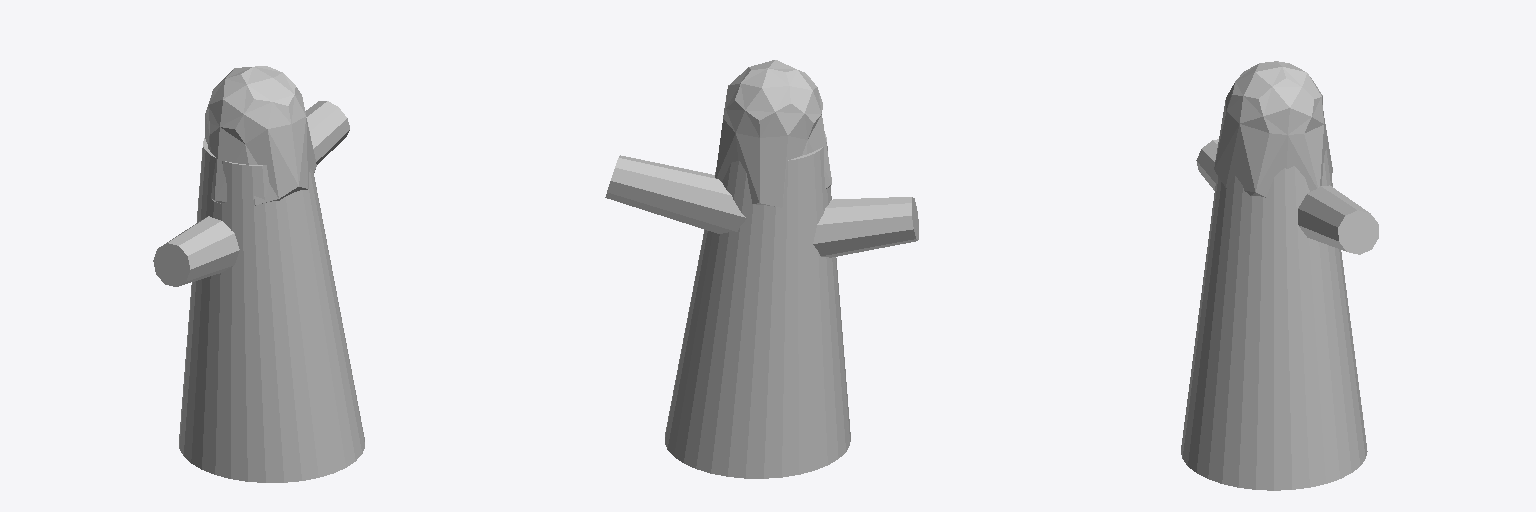
File: koko_col.obj
3 views of the same model, side by side, from view 1: azimuth 30°, elevation 25°; view 2: azimuth 150°, elevation 25°; view 3: azimuth 270°, elevation 25° (orthographic).
Bounding box in the file's own units: 0.7222 × 1.05 × 0.4996.